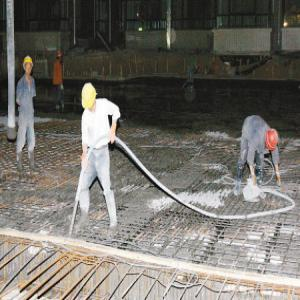red: (265, 127, 279, 153), (56, 50, 63, 62)
yellow: (82, 83, 98, 112), (22, 56, 34, 77)
